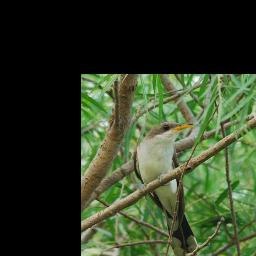Cuckoo: (133, 121, 199, 256)
